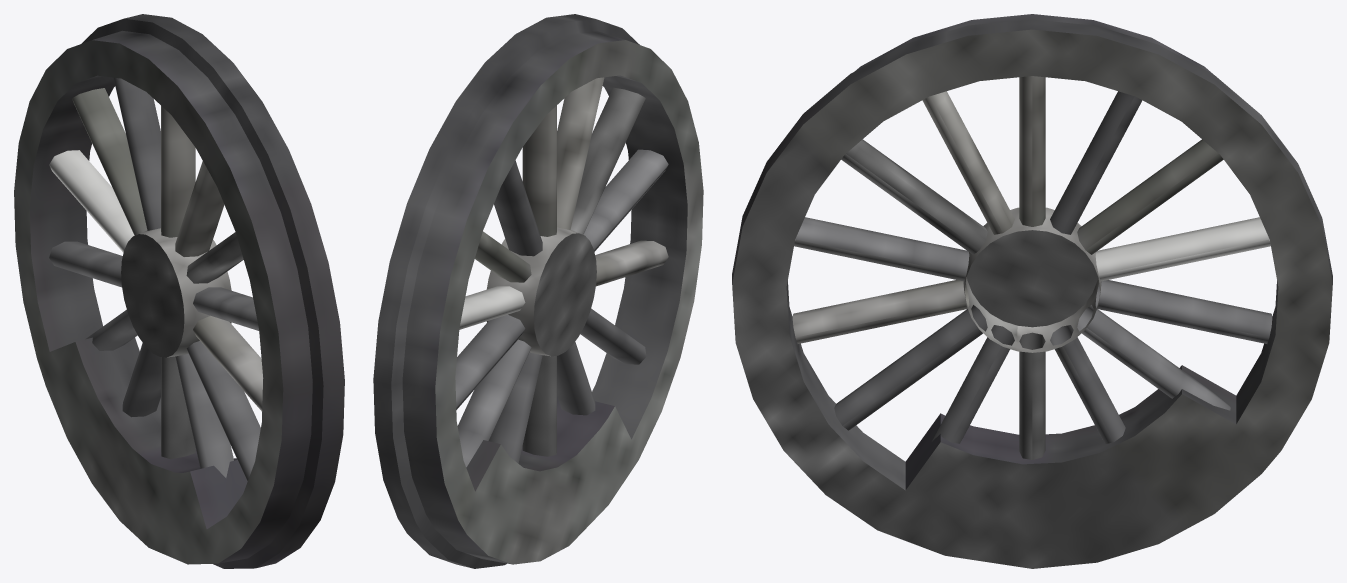
File: RuedaDer2.obj
3 views of the same model, side by side, from view 1: azimuth 30°, elevation 25°; view 2: azimuth 150°, elevation 25°; view 3: azimuth 270°, elevation 25° (orthographic). The views are drawn at different scales.
Visible parts, largest first — view 1: RuedaDer2; view 2: RuedaDer2; view 3: RuedaDer2.
Boxes of the visible parts, x1,y1,x2,y2 form: RuedaDer2: [14, 14, 344, 568]; RuedaDer2: [373, 14, 703, 568]; RuedaDer2: [732, 14, 1332, 568].
Bounding box in the file's own units: 0.0446 × 0.3867 × 0.3902.
Materials: 1 (1 with a texture image).
